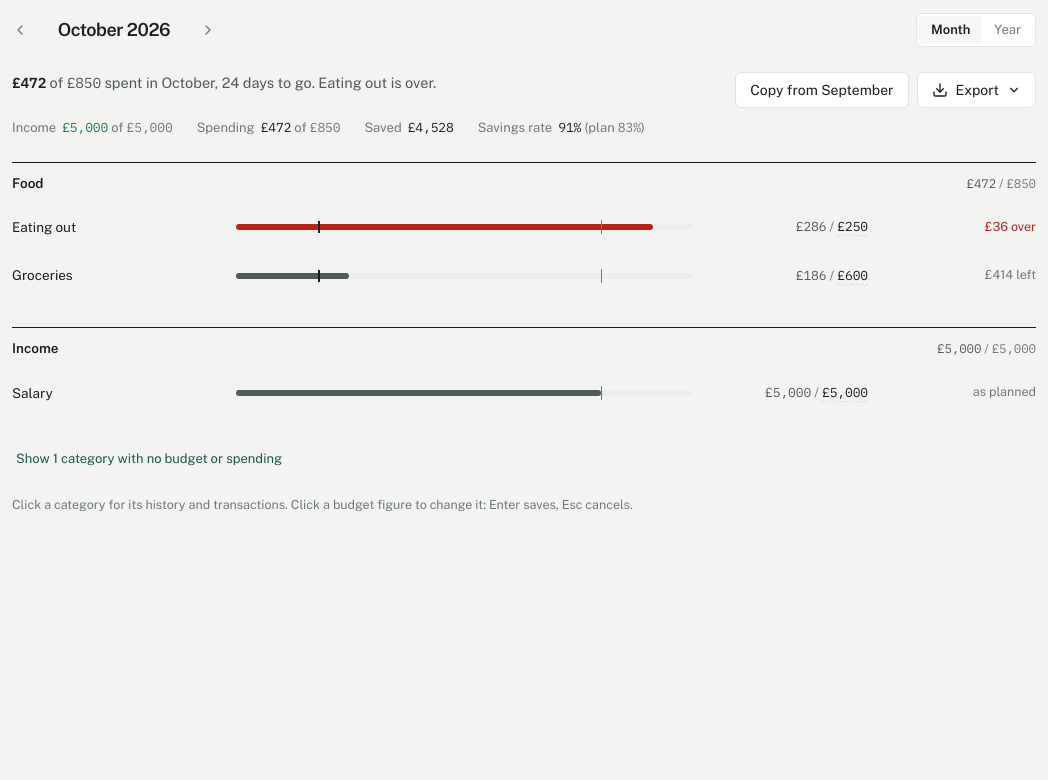
Test: BudgetsView › edits a budget in place: Enter saves optimistically and confirms with a toast
The width and height of the screenshot is (1048, 780).
Check: the text "24 days to go" is shown, box [215,74,312,91]
Click the button named "Edit budget for Eating out, £250". click: (853, 227)
box: [833,213,872,241]
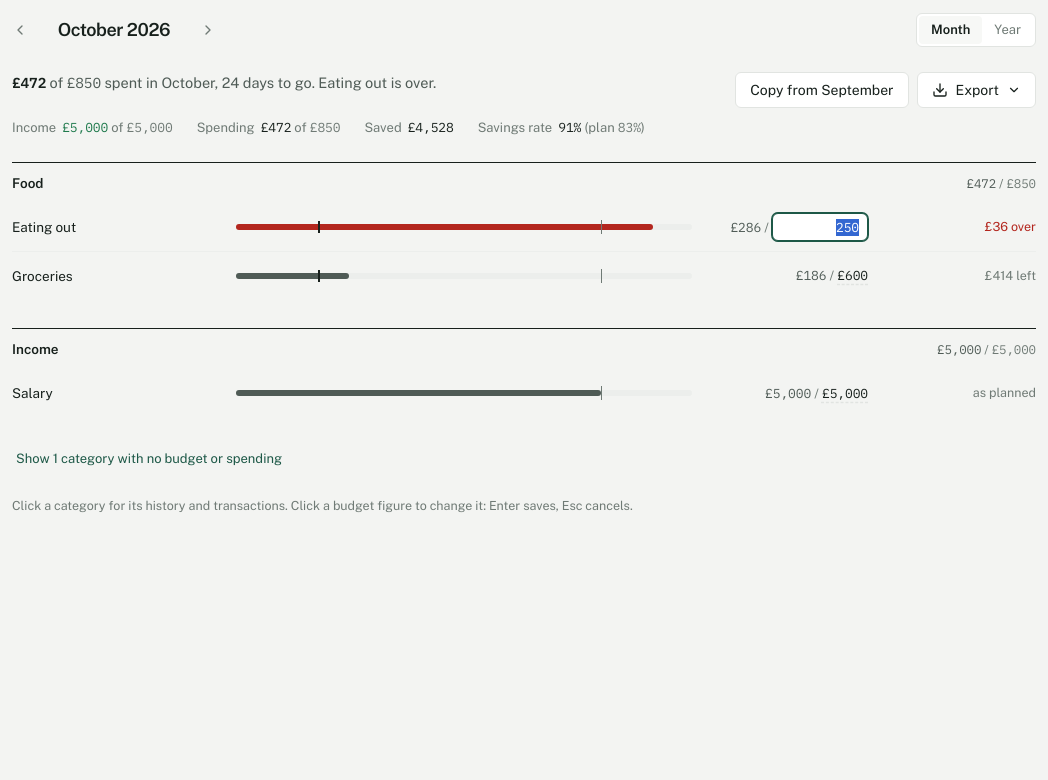
Replace the text in the field named "Budget for Eating out in October" with "300". click: (820, 227)
box: [772,213,868,241]
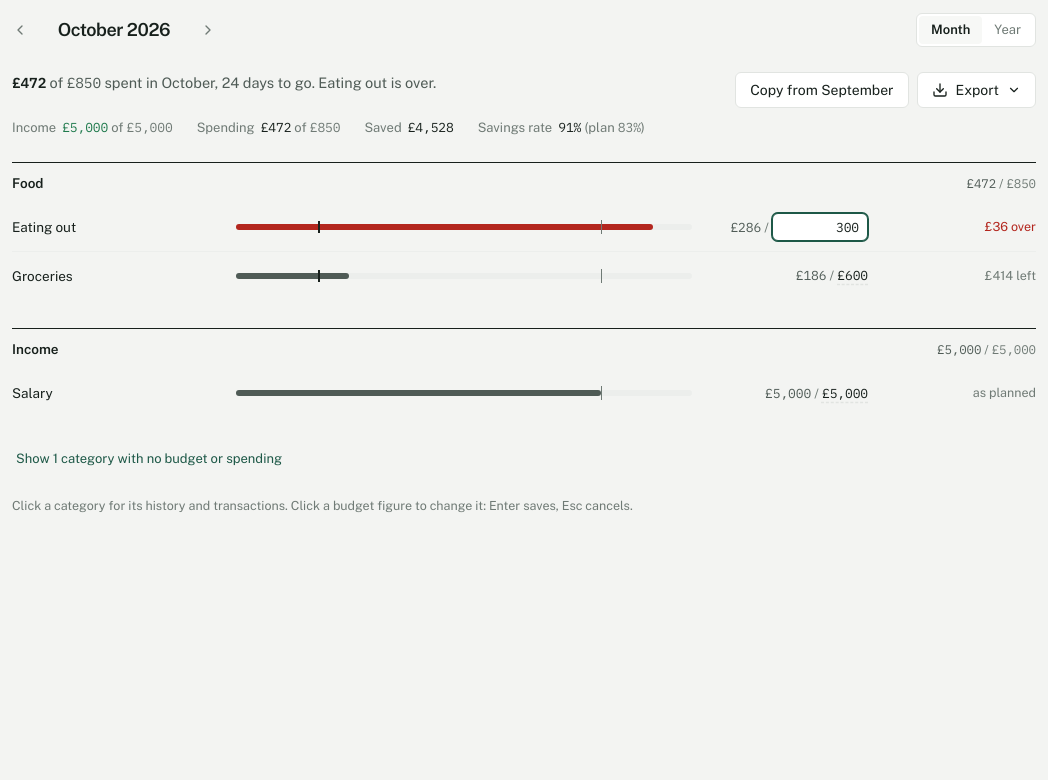
Press Enter in the field named "Budget for Eating out in October", box [772,213,868,241]
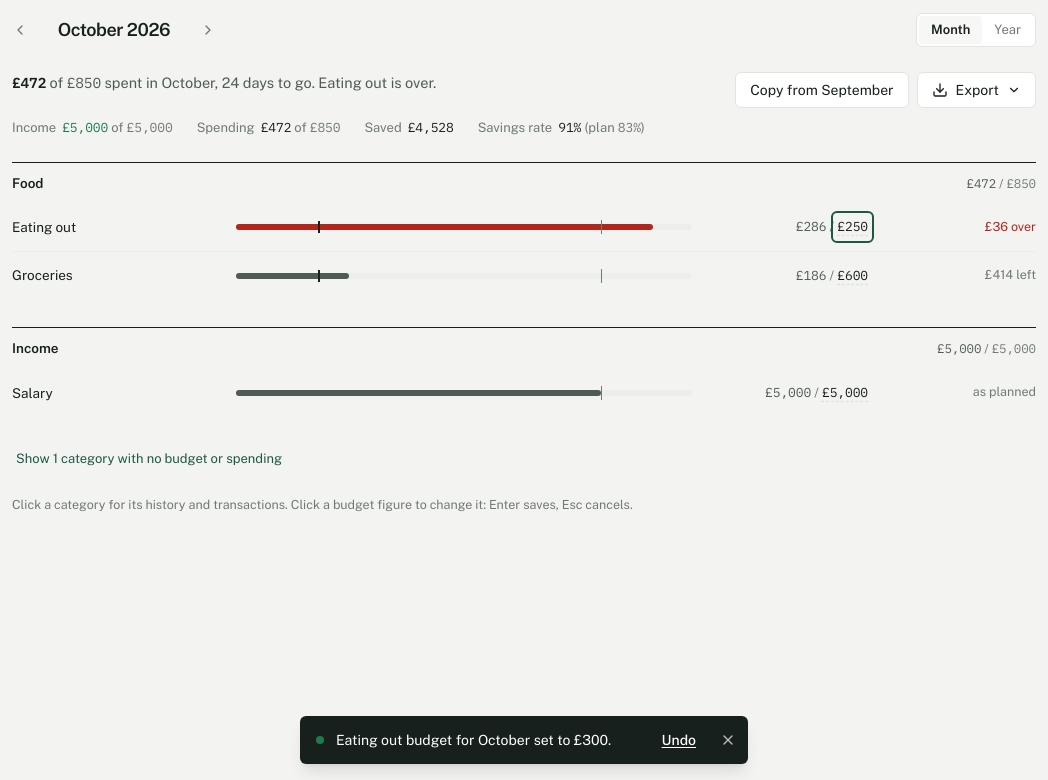
Check: the button named "Edit budget for Eating out, £300" is shown, box [833,213,872,241]
Check: the text "Eating out budget for October set to £300." is shown, box [336,730,642,750]
